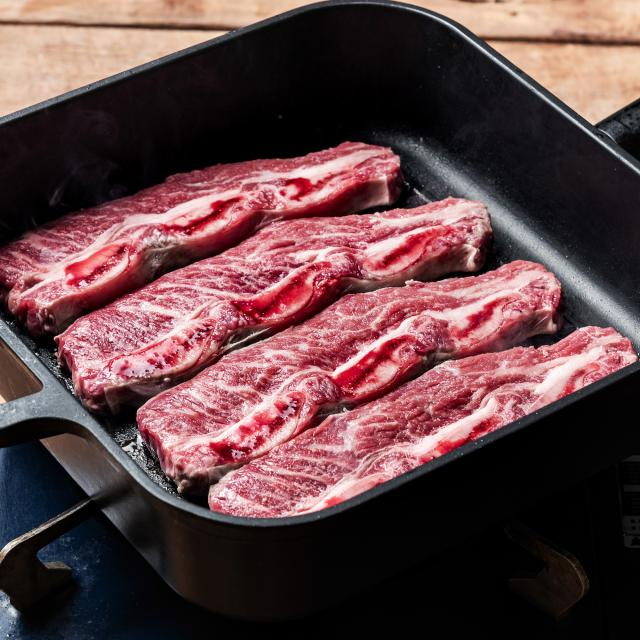beef: (190, 246, 397, 420)
